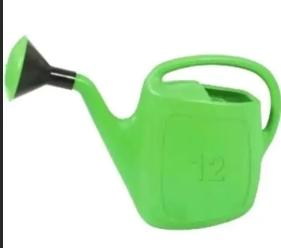ARROSOIR: (2, 1, 281, 248)
